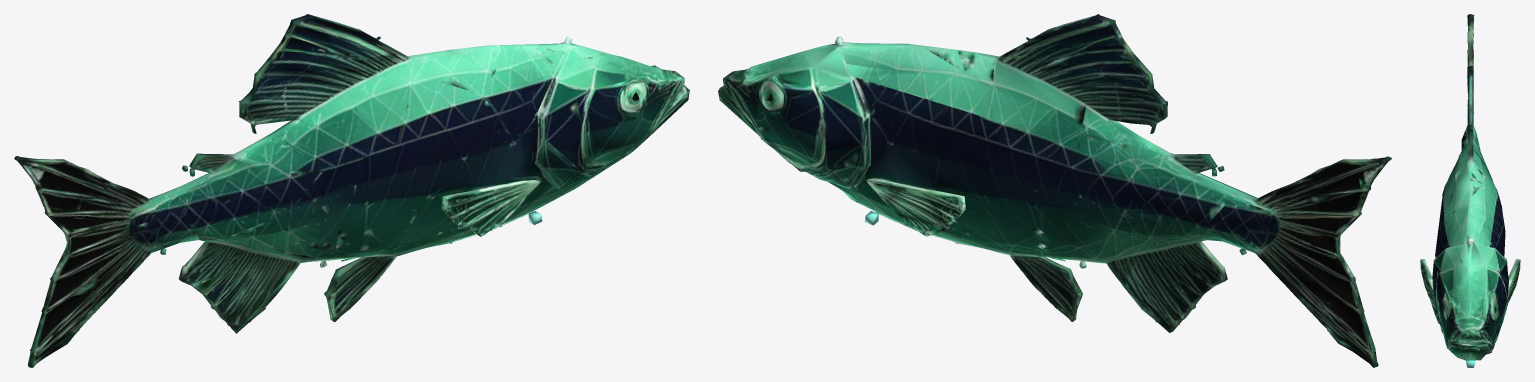
Rendered from peixe-aruana.glb.
The picture shows the model from 3 angles, left to right: view 1: azimuth 30°, elevation 25°; view 2: azimuth 150°, elevation 25°; view 3: azimuth 270°, elevation 25°; orthographic projection. The views are drawn at different scales.
Parts seen in each view (by area): view 1: node_0; view 2: node_0; view 3: node_0.
Boxes of the visible parts, bbox=[...] form: node_0: bbox=[14, 14, 689, 367]; node_0: bbox=[718, 14, 1391, 367]; node_0: bbox=[1420, 14, 1520, 367].
Bounding box in the file's own units: 117 × 51.97 × 19.05.
1 material, 1 textured.
